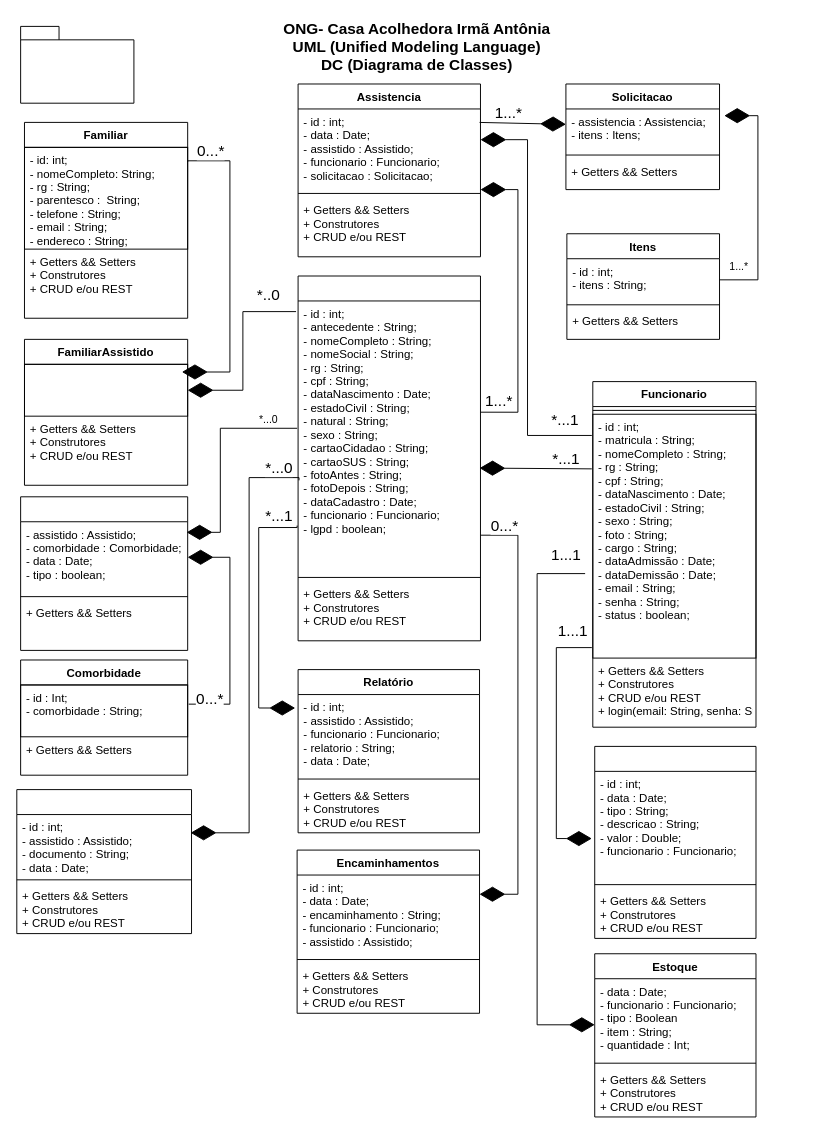
This 813x1136 diagram has some shape labels left out. Each missing label, with the box of its shape:
- familiar : Familiar; - assistido : Assistido; - data : Date;: (24, 363, 188, 416)
Assistido: (297, 275, 480, 641)
DocsAssistidos: (16, 789, 192, 934)
Financeiro: (594, 745, 756, 938)
model: (20, 25, 134, 103)
Saude: (20, 496, 188, 650)
